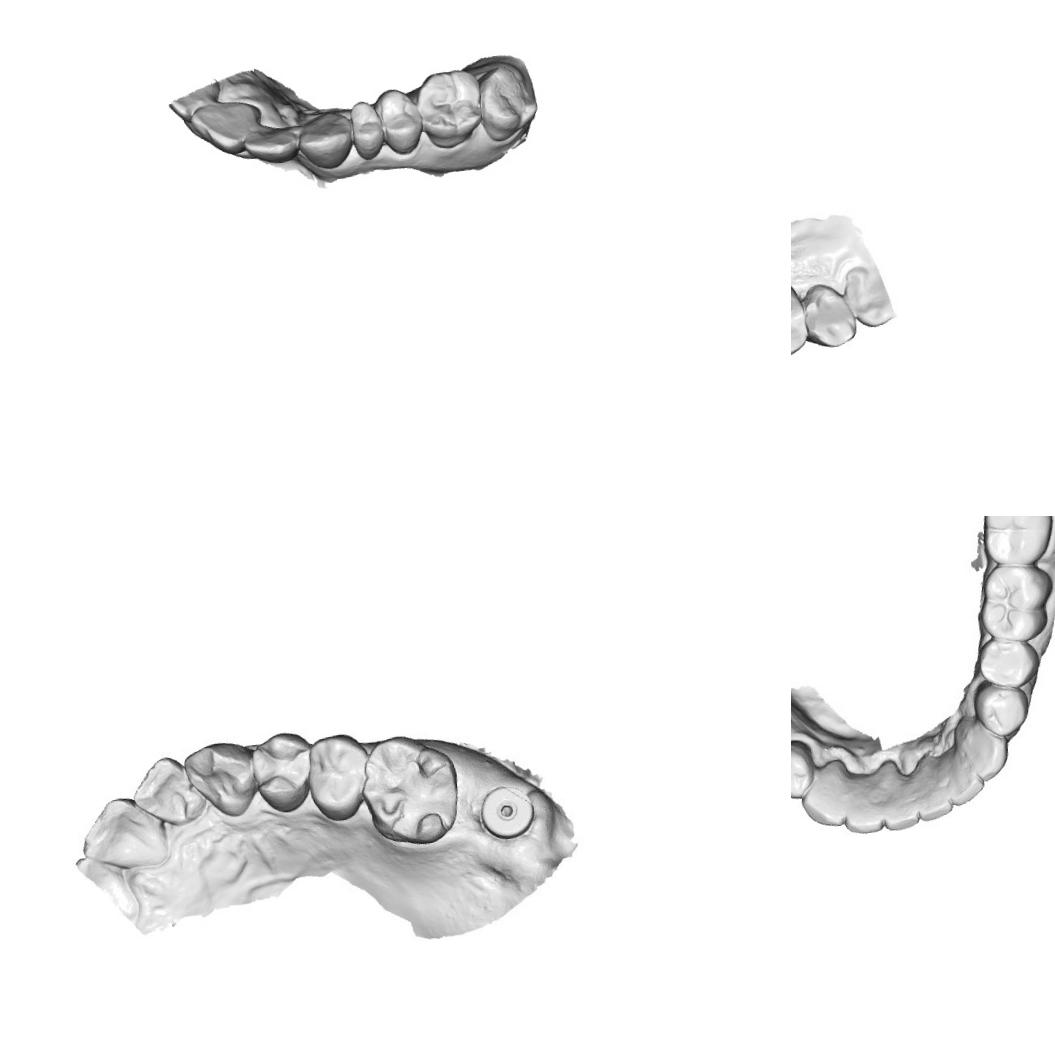canine: (182, 734, 266, 824), (293, 108, 357, 174), (800, 284, 860, 352), (798, 761, 854, 830), (957, 714, 1013, 782)
implant: (472, 772, 546, 854)
incisor: (77, 791, 173, 871), (125, 752, 205, 828), (187, 96, 266, 160), (844, 264, 896, 328), (837, 773, 888, 838), (908, 752, 954, 824), (876, 762, 922, 834), (938, 748, 989, 810), (241, 122, 301, 168)
molar: (356, 730, 466, 852), (972, 559, 1055, 648), (412, 66, 486, 152), (474, 60, 542, 144), (975, 516, 1055, 573)
premolar: (306, 730, 376, 826), (252, 728, 319, 812), (975, 634, 1044, 694), (372, 85, 427, 159), (969, 680, 1035, 741), (346, 98, 386, 164), (791, 737, 818, 804), (791, 278, 810, 365)
